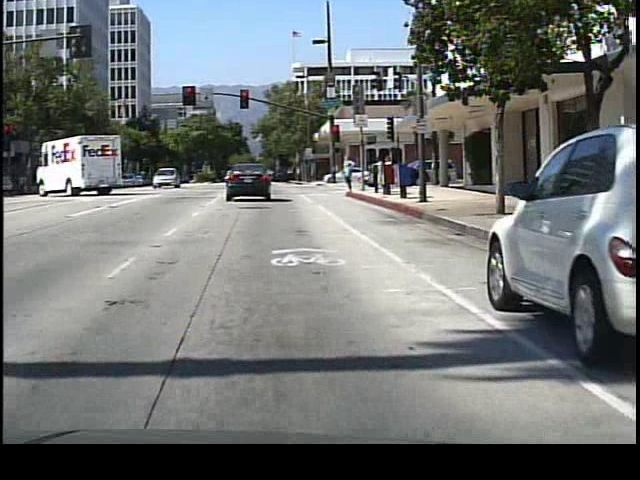person: (341, 151, 362, 197)
